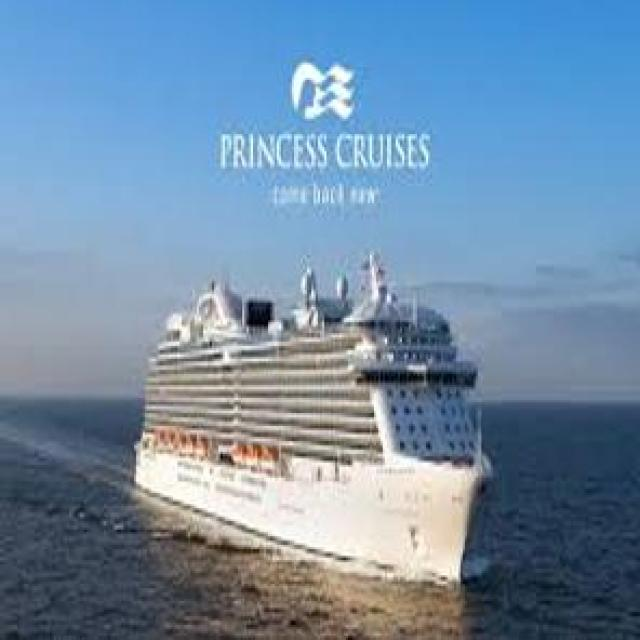passenger ship: (126, 243, 479, 581)
